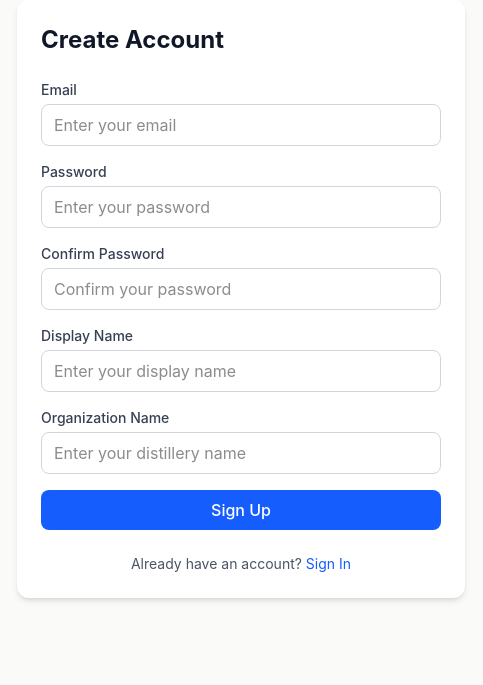
Scenario: SignUpForm › should display error message on signup failure
The width and height of the screenshot is (483, 685).
Type "existing@example.com" into the field labelled "Email" at point(241, 125), box [41,104,441,146]
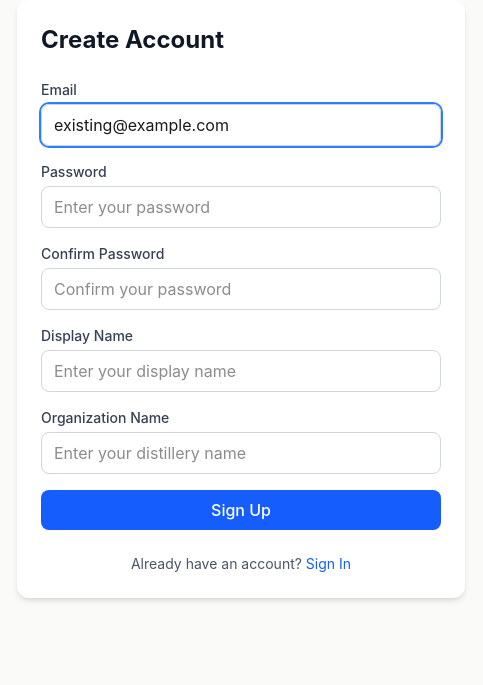
Type "password123" into the password field labelled "Password" at point(241, 207), box [41,186,441,228]
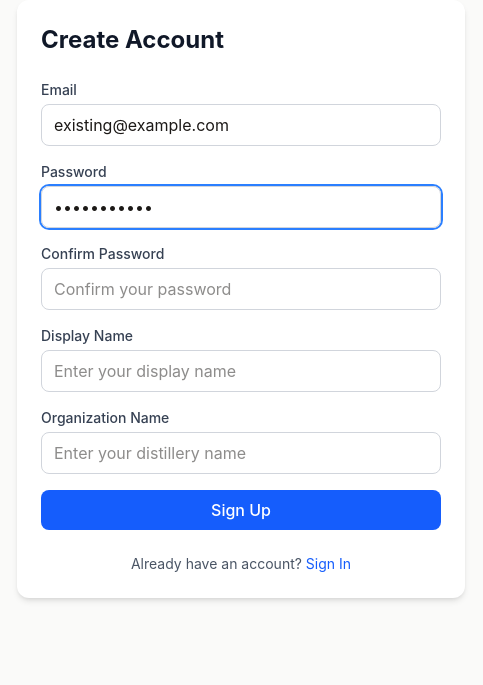
Type "password123" into the password field labelled "Confirm Password" at point(241, 289), box [41,268,441,310]
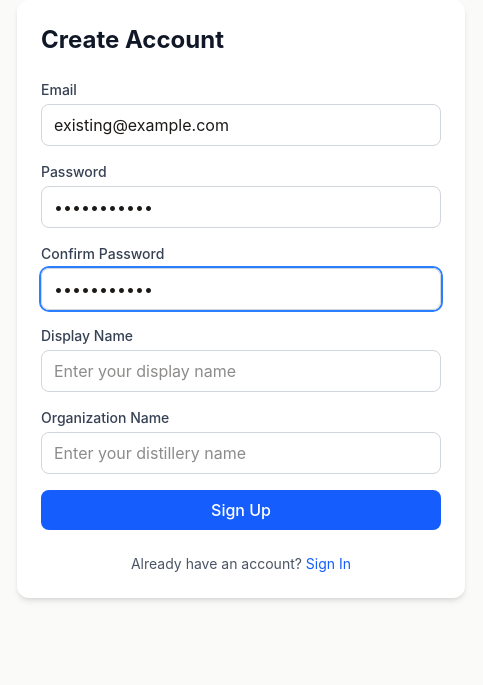
Type "Test User" into the field labelled "Display Name" at point(241, 371), box [41,350,441,392]
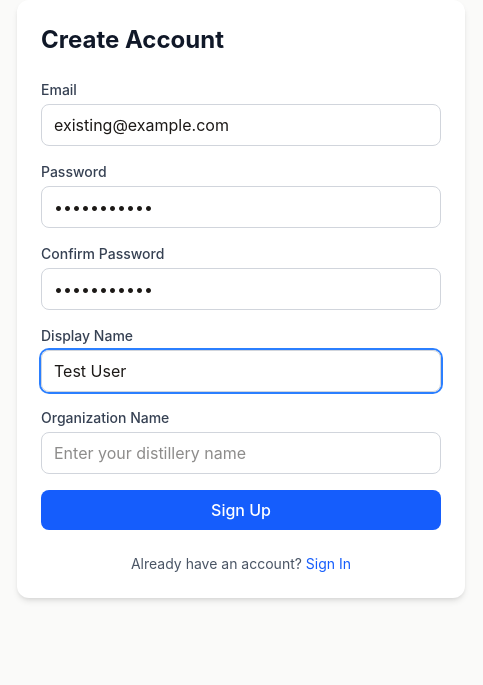
Type "Test Distillery" into the field labelled "Organization Name" at point(241, 453), box [41,432,441,474]
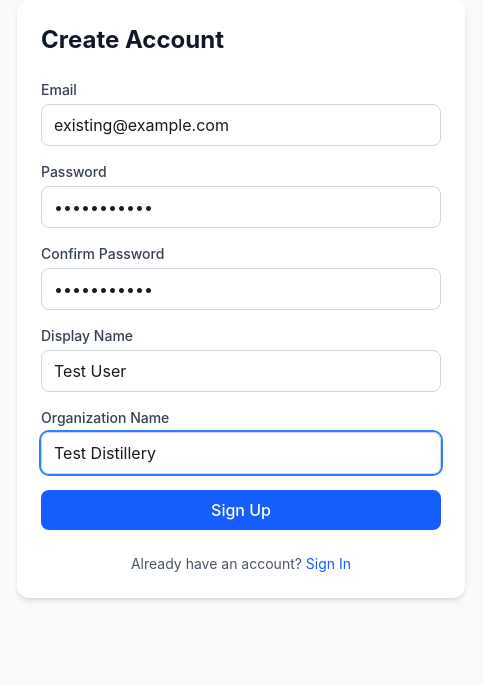
Click the button "Sign Up" at point(241, 510), box [41,490,441,530]
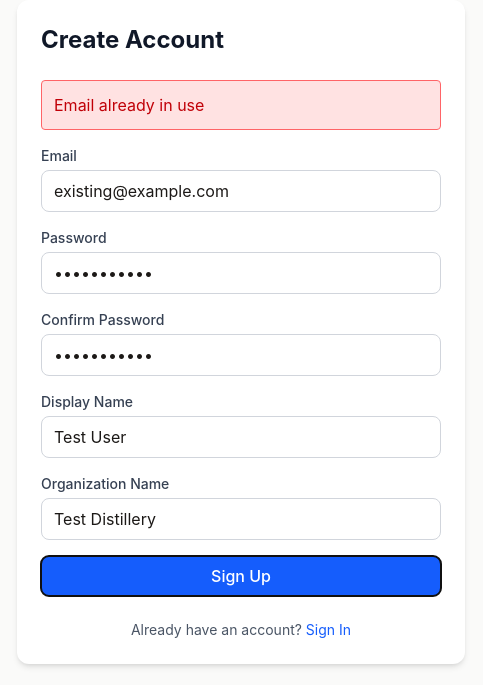
Check: the text "Email already in use" is shown, box [41,80,441,130]
